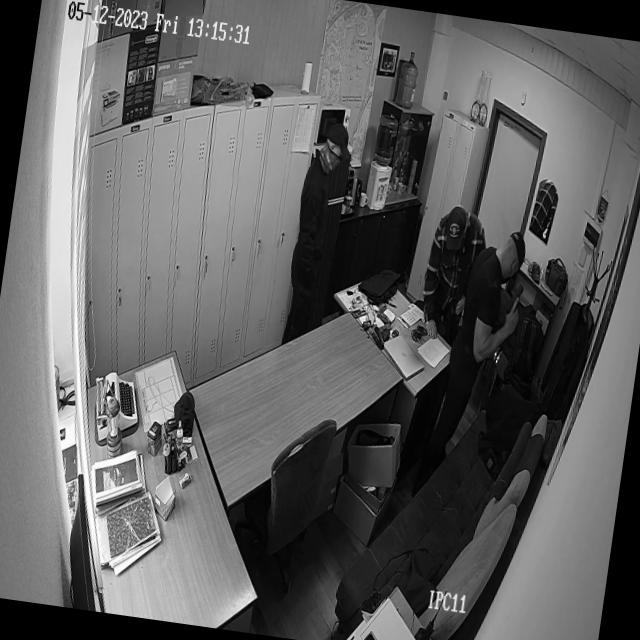gun: (444, 263, 472, 347)
person: (282, 120, 348, 354)
person with a gun: (414, 225, 532, 497), (415, 207, 491, 351)
